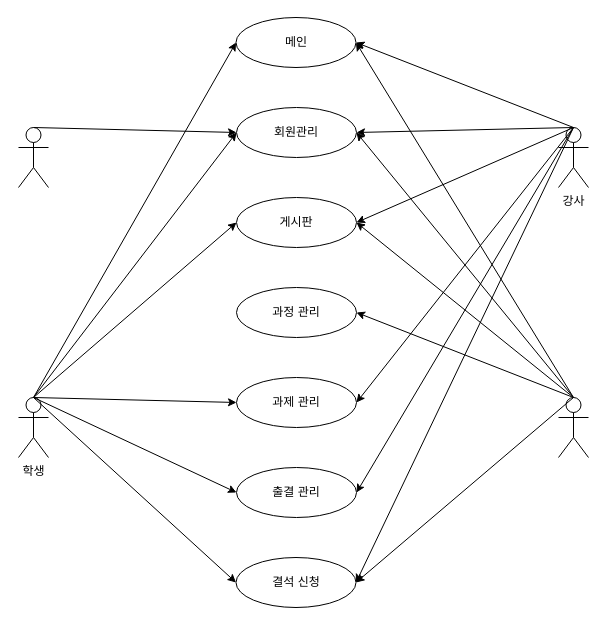
The diagram is 607 pixels wide and 625 high, and some of its shapes have lost their labels. Each missing label, with the centre of its shape:
"관리자" goes at (x=573, y=427).
"비회원" goes at (x=33, y=157).
